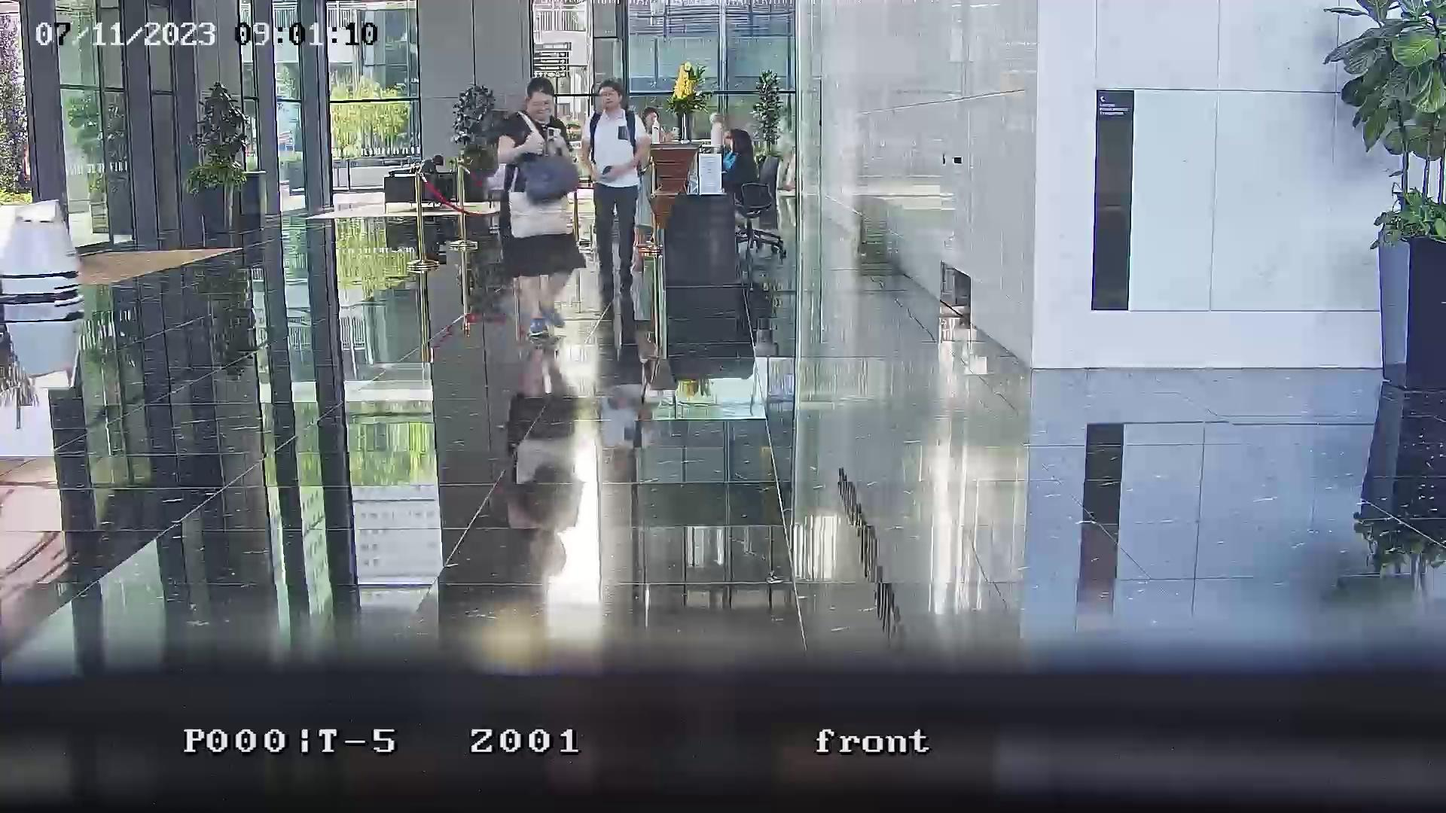person: (490, 78, 584, 341), (582, 78, 652, 323), (710, 112, 758, 212), (719, 126, 758, 208), (413, 153, 449, 193), (642, 107, 673, 145)
